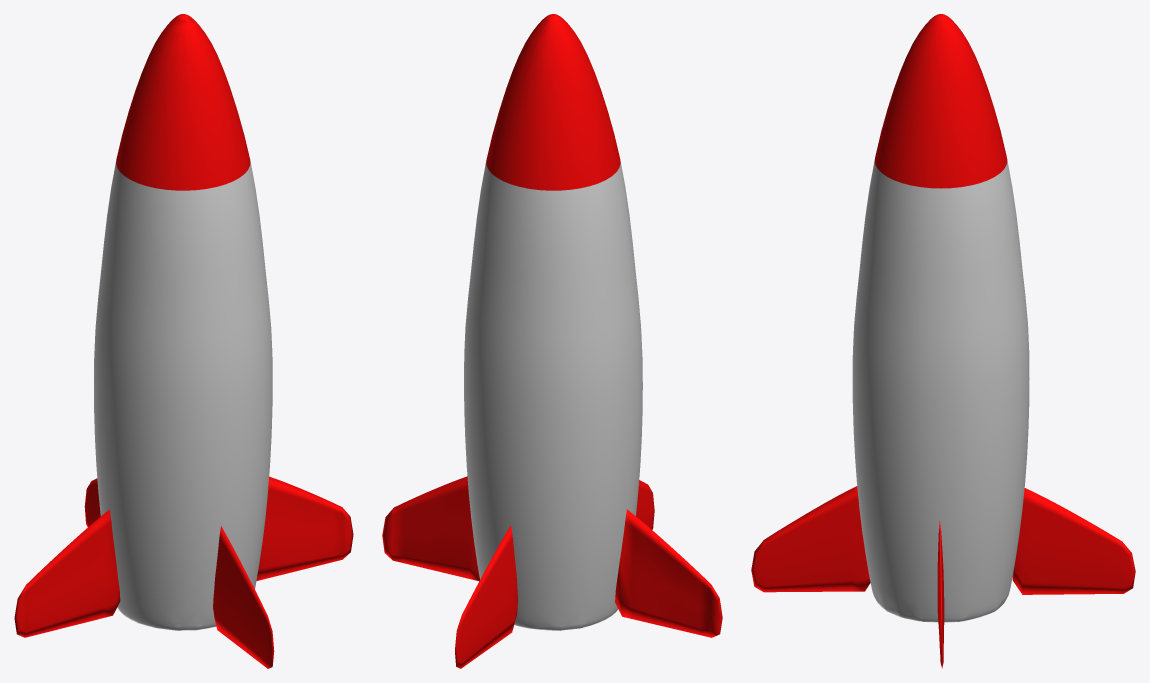
File: rocket.fbx
3 renders of one model, left to right at view 1: azimuth 30°, elevation 25°; view 2: azimuth 150°, elevation 25°; view 3: azimuth 270°, elevation 25°, orthographic.
Visible parts, largest first — view 1: pCube1; view 2: pCube1; view 3: pCube1.
Part boxes in pixels (x1,y1,x2,y2): pCube1: (14, 14, 353, 668); pCube1: (382, 14, 722, 668); pCube1: (751, 14, 1135, 668).
Bounding box in the file's own units: 11.97 × 19.83 × 11.88.
